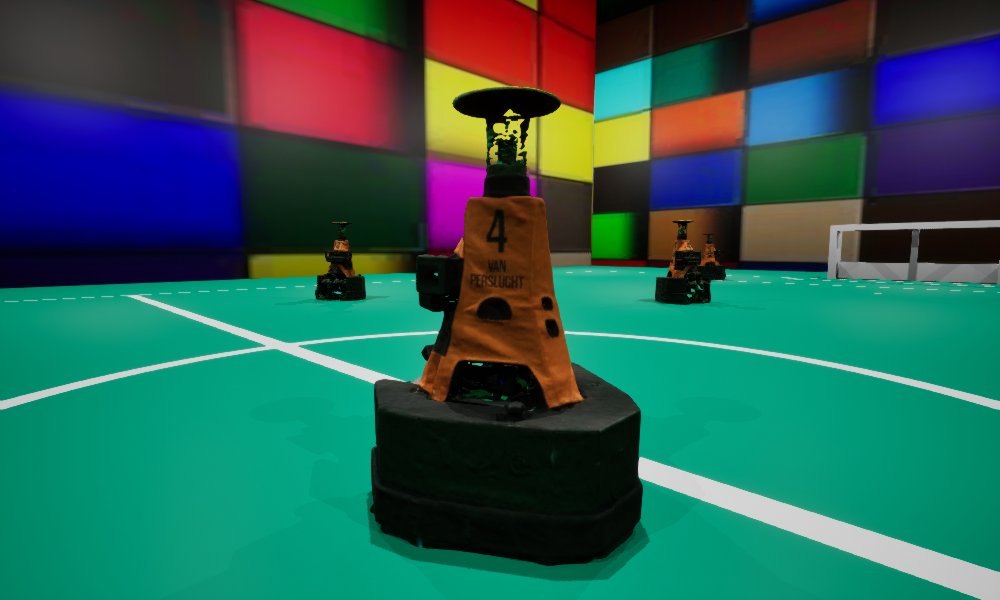0 orange robot TechUnited: (370, 86, 642, 565), (655, 220, 710, 304), (315, 222, 365, 299), (695, 234, 725, 279)
